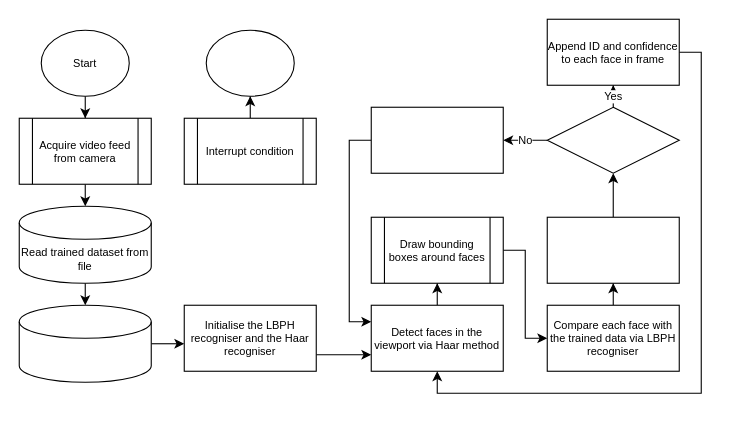
This 729x421 diagram has some shape labels left out. The shapes that lost their labels are listed below. From the top down, each one's centre as x and y in pixels, then its label:
the point at 249,62: Stop
the point at 436,139: Send SMS through the Twilio API warning of security error
the point at 612,139: Confidence > low threshold
the point at 612,249: Acquire (confidence, ID) from the recogniser and compare with threshold
the point at 84,343: Read Twilio API credentials
